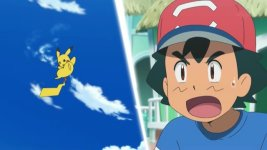pikachu: (34, 45, 82, 99)
